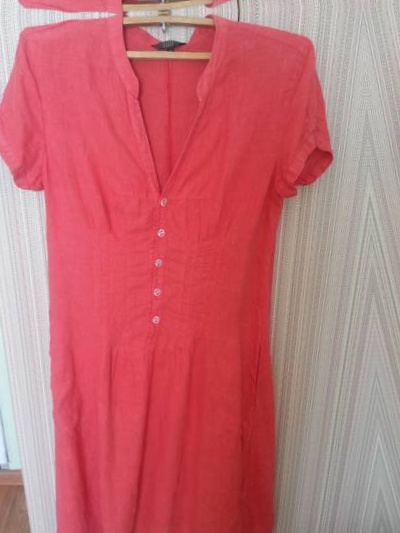Dress: (5, 17, 350, 533), (0, 0, 330, 7), (397, 3, 400, 533)
